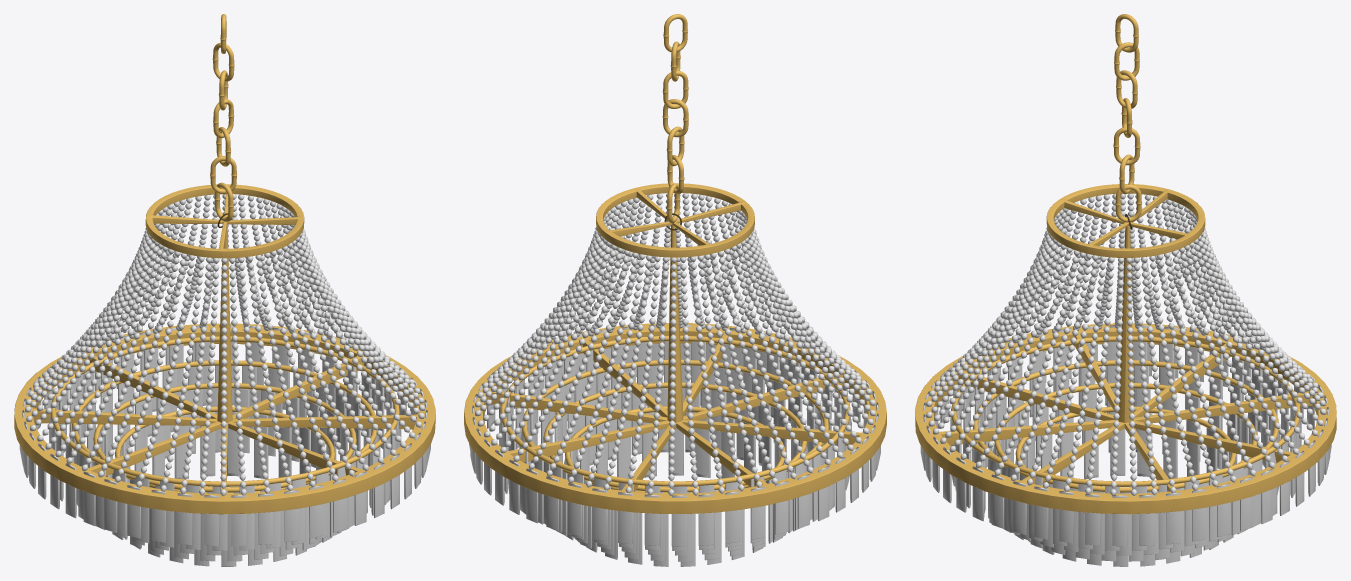
Rendered from Chandelier.fbx.
3 renders of one model, left to right at view 1: azimuth 30°, elevation 25°; view 2: azimuth 150°, elevation 25°; view 3: azimuth 270°, elevation 25°, orthographic.
Parts seen in each view (by area): view 1: chandelier; view 2: chandelier; view 3: chandelier.
Part boxes in pixels (x1=…): chandelier: x1=14, y1=14, x2=435, y2=566; chandelier: x1=464, y1=14, x2=886, y2=566; chandelier: x1=915, y1=14, x2=1336, y2=566.
Size of the model in its own units: 0.9248 by 0.9241 by 1.22.
